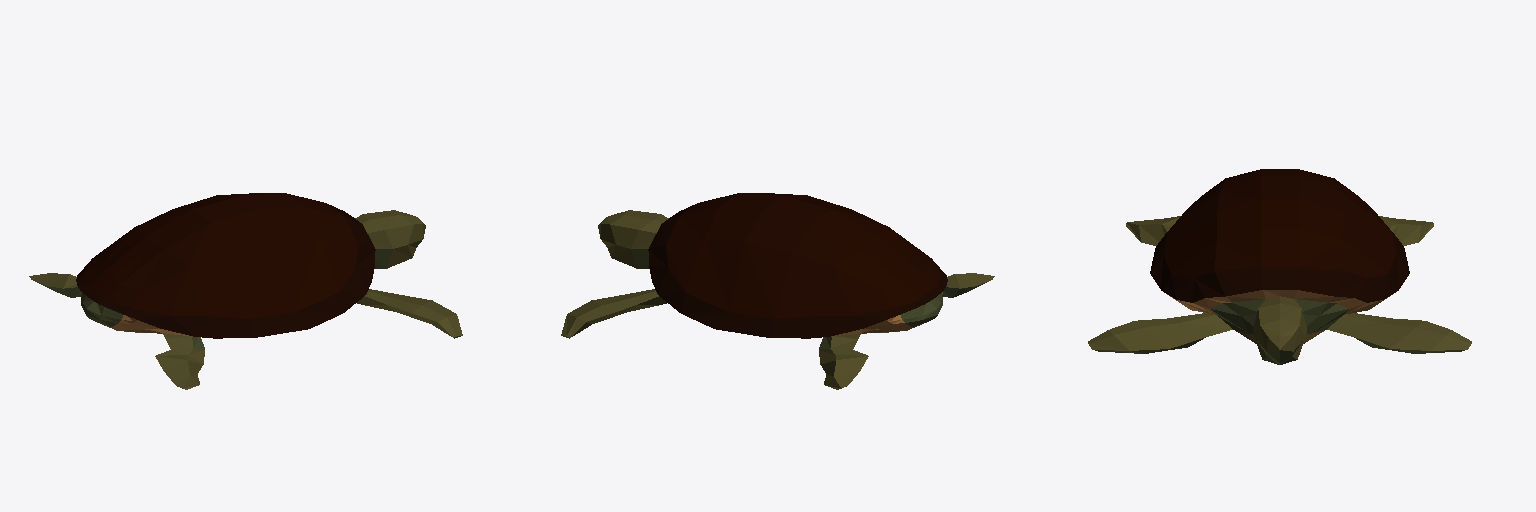
File: tortoise1.obj
3 views of the same model, side by side, from view 1: azimuth 30°, elevation 25°; view 2: azimuth 150°, elevation 25°; view 3: azimuth 270°, elevation 25° (orthographic).
Parts seen in each view (by area): view 1: Plane.001; view 2: Plane.001; view 3: Plane.001.
Part boxes in pixels (x1,y1,x2,y2): Plane.001: (29, 193, 462, 389); Plane.001: (561, 193, 994, 389); Plane.001: (1088, 169, 1471, 364).
Size of the model in its own units: 4.02 by 1.23 by 3.94.